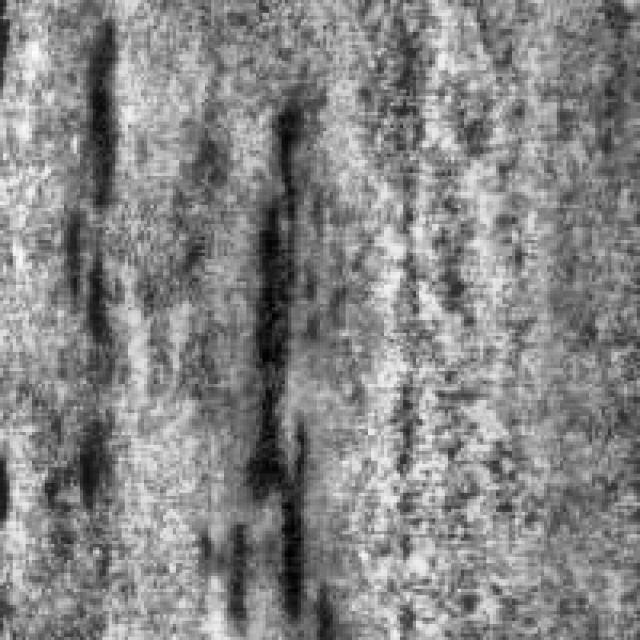Patches: (204, 90, 330, 634), (64, 9, 138, 214), (48, 202, 119, 352)
